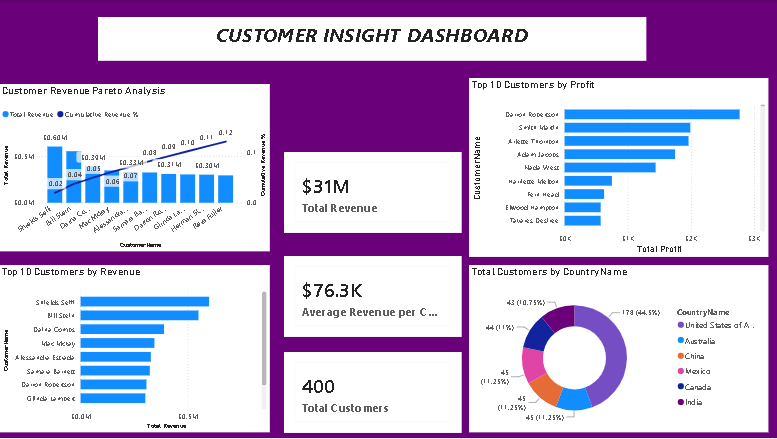

Layout of this report page (visuals, bound fields, positions):
{"tool":"powerbi","page":{"name":"Customer Insight Analysis Dashboard ","canvas":[1280,720],"ordinal":4},"visuals":[{"type":"cardVisual","fields":{"Data":["ML_Dataset_Cleaned.Total Customers"]},"box":[468,578.8,291.9,132.5],"z":0},{"type":"cardVisual","fields":{"Data":["ML_Dataset_Cleaned.Total Revenue"]},"box":[468,250,291.9,132.5],"z":1000},{"type":"cardVisual","fields":{"Data":["ML_Dataset_Cleaned.Average Revenue per Customer"]},"box":[468,421.1,291.9,132.5],"z":2000},{"type":"clusteredBarChart","title":"Top 10 Customers by Revenue","fields":{"Category":["ML_Dataset_Cleaned.CustomerName"],"Y":["ML_Dataset_Cleaned.Total Revenue"]},"box":[0,436.2,444.6,275.1],"z":3000},{"type":"clusteredBarChart","title":"Top 10 Customers by Profit","fields":{"Category":["ML_Dataset_Cleaned.CustomerName"],"Y":["ML_Dataset_Cleaned.Total Profit"]},"box":[771.7,127.5,491.5,293.6],"z":4000},{"type":"donutChart","fields":{"Y":["ML_Dataset_Cleaned.Total Customers"],"Category":["ML_Dataset_Cleaned.CountryName"]},"box":[771.7,436.2,491.5,275.1],"z":5000},{"type":"lineClusteredColumnComboChart","title":"Customer Revenue Pareto Analysis","fields":{"Category":["ML_Dataset_Cleaned.CustomerName"],"Y":["ML_Dataset_Cleaned.Total Revenue"],"Y2":["ML_Dataset_Cleaned.Cumulative Revenue %"]},"box":[0,137.6,444.6,275.1],"z":6000},{"type":"textbox","box":[162.7,28.5,900.9,72.1],"z":7000}]}

Visuals, with their boxes in screenshot pixels (x1, y1, x2, y2), scaled from the page's 1280x720 canvas onto the 777x439 screenshot:
cardVisual - ML_Dataset_Cleaned.Total Customers: (284,353,461,434)
cardVisual - ML_Dataset_Cleaned.Total Revenue: (284,152,461,233)
cardVisual - ML_Dataset_Cleaned.Average Revenue per Customer: (284,257,461,338)
"Top 10 Customers by Revenue" clusteredBarChart: (0,266,270,434)
"Top 10 Customers by Profit" clusteredBarChart: (468,78,767,257)
donutChart - ML_Dataset_Cleaned.Total Customers x ML_Dataset_Cleaned.CountryName: (468,266,767,434)
"Customer Revenue Pareto Analysis" lineClusteredColumnComboChart: (0,84,270,252)
textbox: (99,17,646,61)
